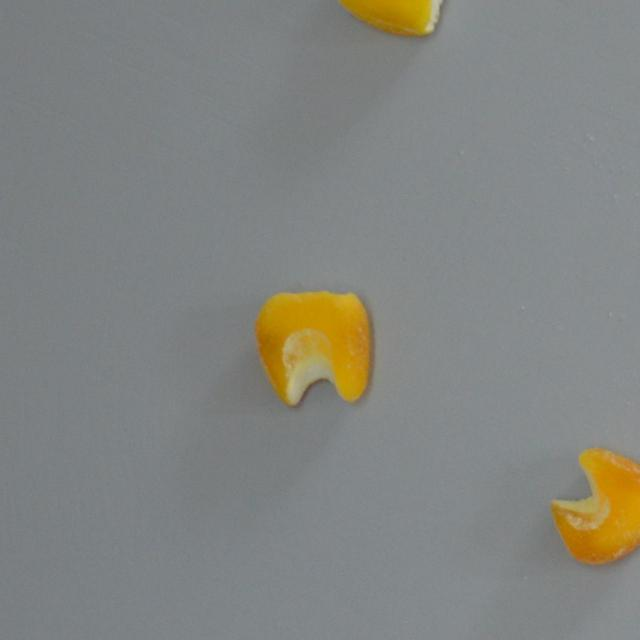no_canjicado: (253, 288, 374, 408), (336, 0, 454, 36)
pelicula: (549, 446, 640, 566)
